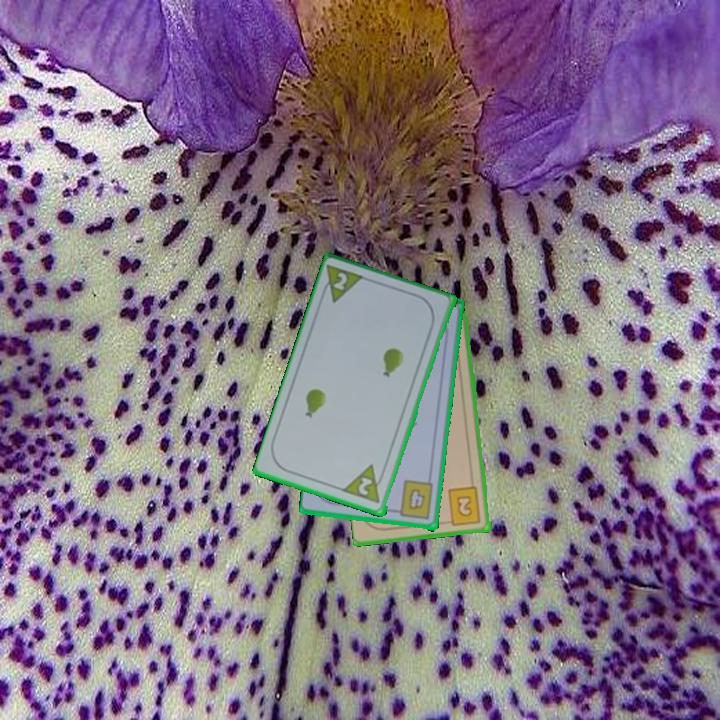2b: (442, 484, 484, 529)
2p: (317, 262, 369, 306), (355, 474, 376, 499)
4b: (390, 478, 436, 523)
